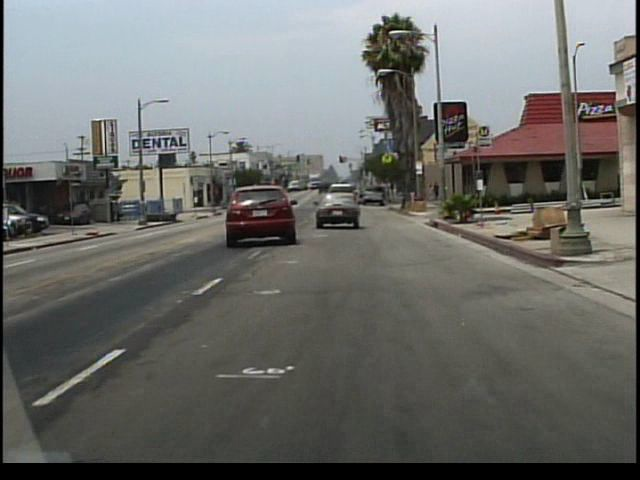person: (433, 180, 441, 200), (427, 183, 434, 203)
